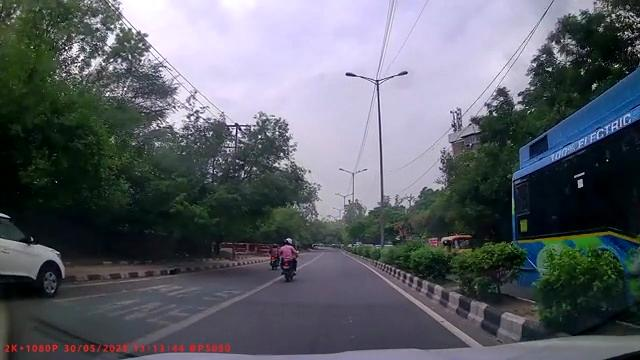motorcycle_with_helmet: (276, 236, 299, 282)
